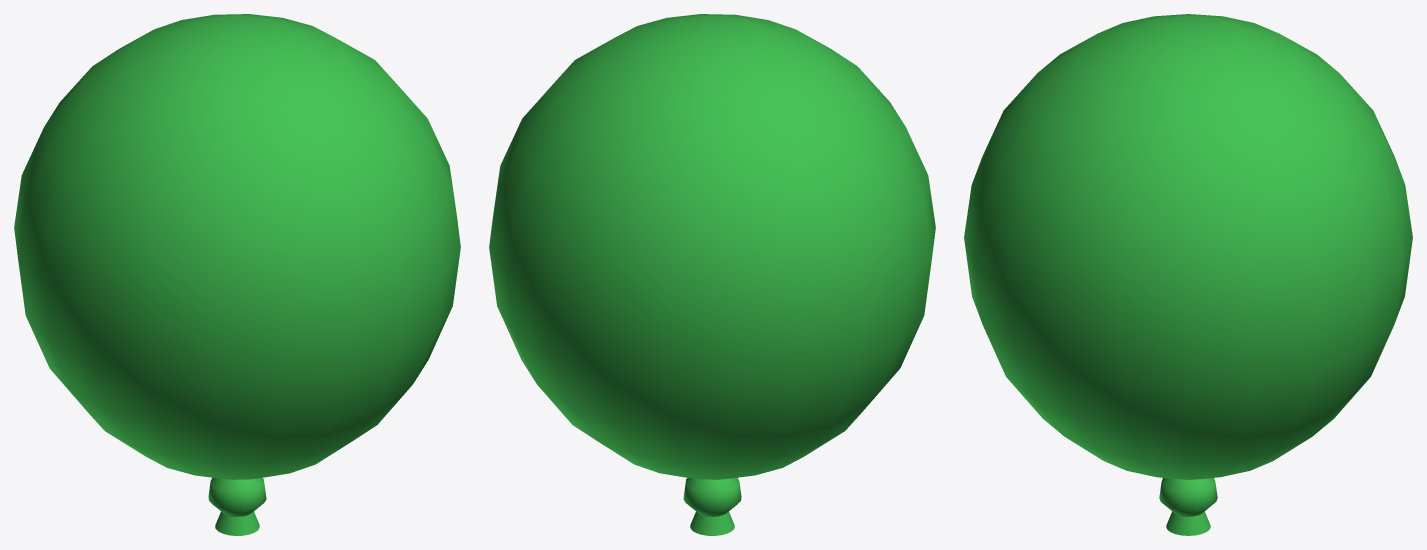
Rendered from Balloon_Green.fbx.
3 views of the same model, side by side, from view 1: azimuth 30°, elevation 25°; view 2: azimuth 150°, elevation 25°; view 3: azimuth 270°, elevation 25° (orthographic).
Parts seen in each view (by area): view 1: Balloon_Green; view 2: Balloon_Green; view 3: Balloon_Green.
Part boxes in pixels (<box>): Balloon_Green: <box>14,14,460,535</box>; Balloon_Green: <box>489,14,935,535</box>; Balloon_Green: <box>964,14,1412,535</box>.
Bounding box in the file's own units: 0.22 × 0.2662 × 0.22.
